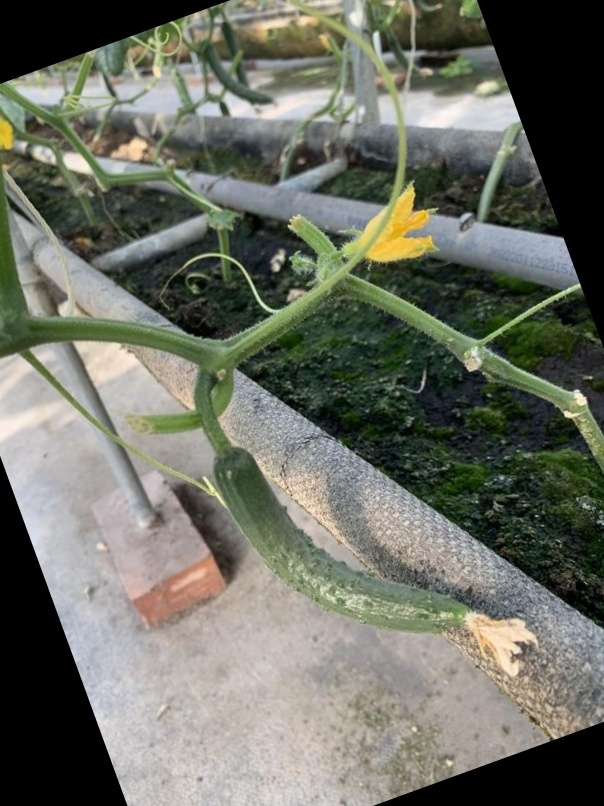bud: (338, 185, 444, 267)
growth: (214, 447, 512, 641)
